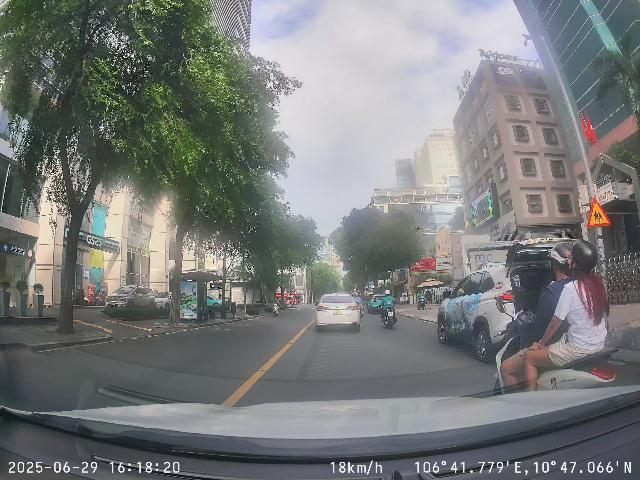225-chu-y-tre-em: (587, 196, 612, 230)
